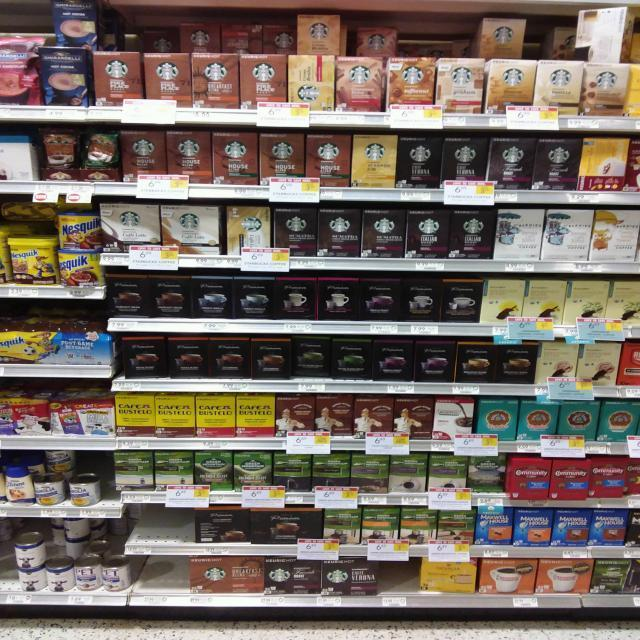empty: (138, 508, 193, 554), (144, 558, 186, 606), (380, 561, 418, 607)
